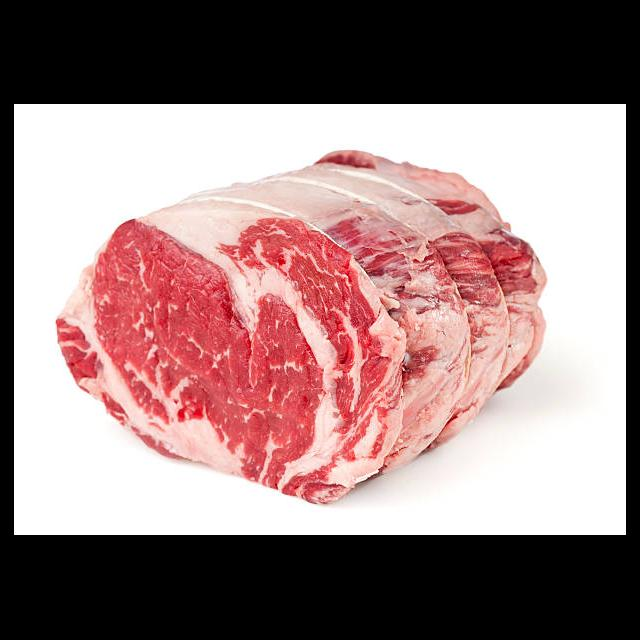beef: (54, 150, 546, 506)
